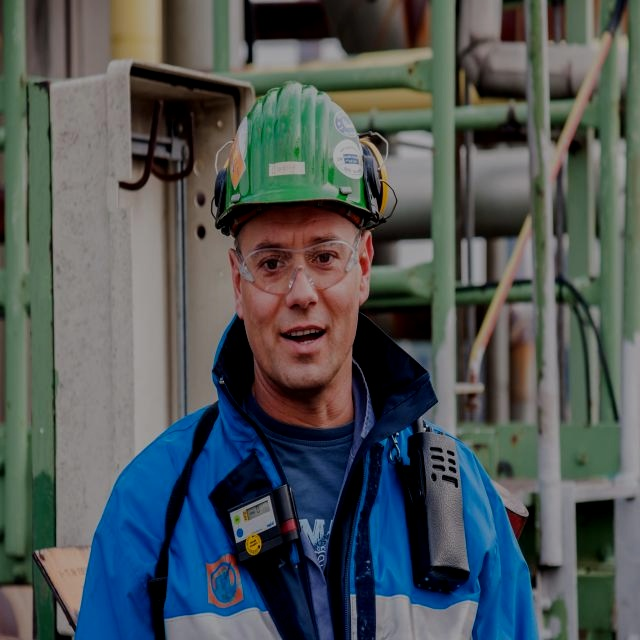goggles: (271, 222, 406, 298)
helmet: (255, 81, 430, 232)
vest: (102, 370, 570, 640)
